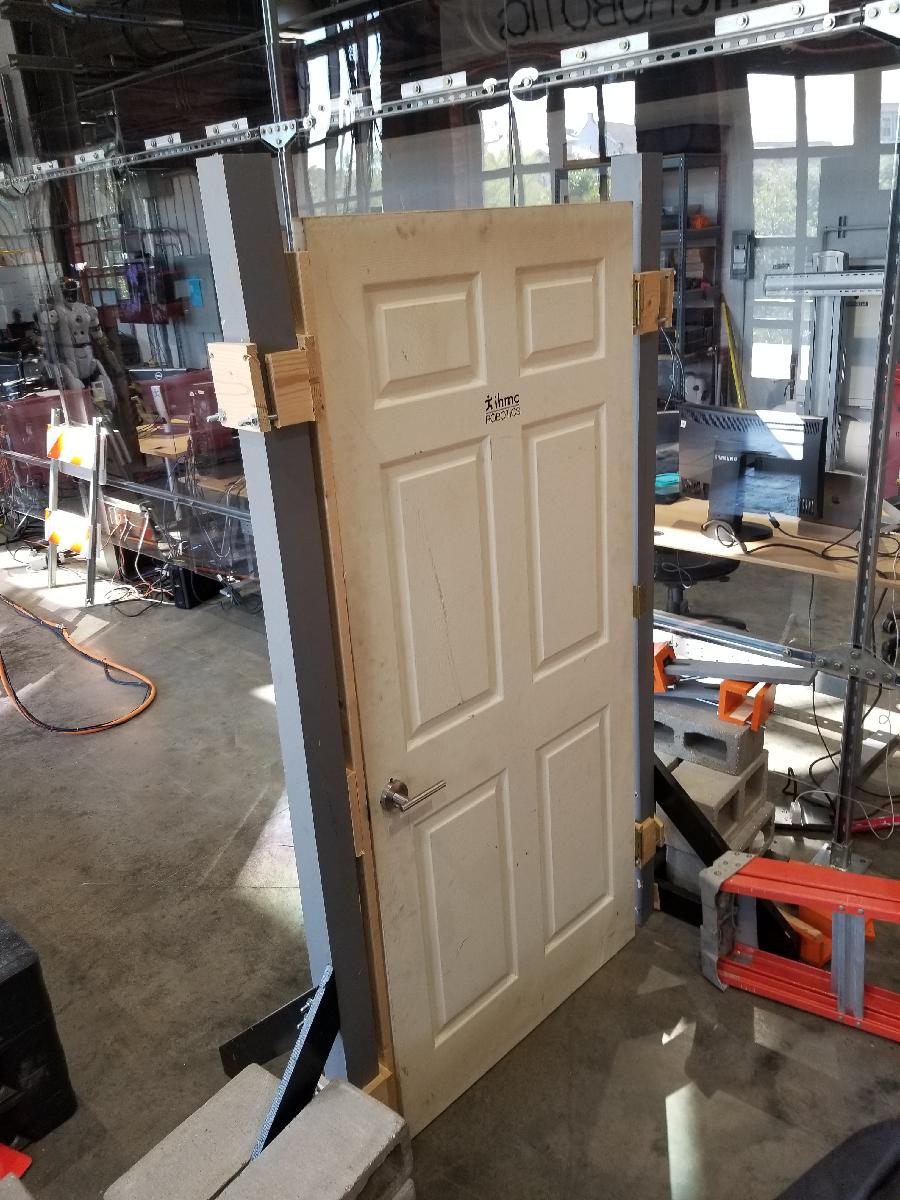door: (287, 194, 641, 1144)
doorHandle: (377, 770, 451, 833)
